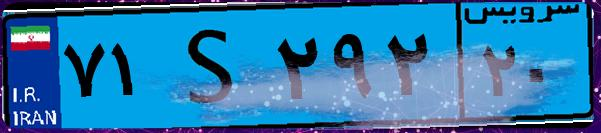0: (525, 38, 570, 115)
1: (110, 28, 158, 98)
2: (270, 28, 330, 110), (385, 28, 445, 110), (475, 38, 525, 113)
7: (57, 26, 110, 100)
9: (330, 28, 385, 110)
S: (158, 12, 270, 120)
